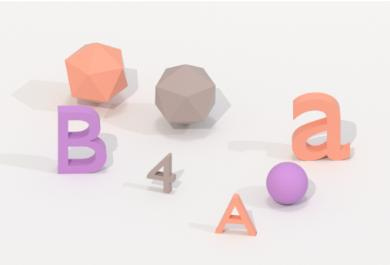0-Tron: (264, 161, 311, 207)
0-TronCanh: (153, 61, 218, 129), (61, 39, 129, 104)
4: (142, 151, 182, 198)
A: (213, 189, 262, 240)
B: (54, 101, 109, 178)
a: (290, 90, 353, 164)
